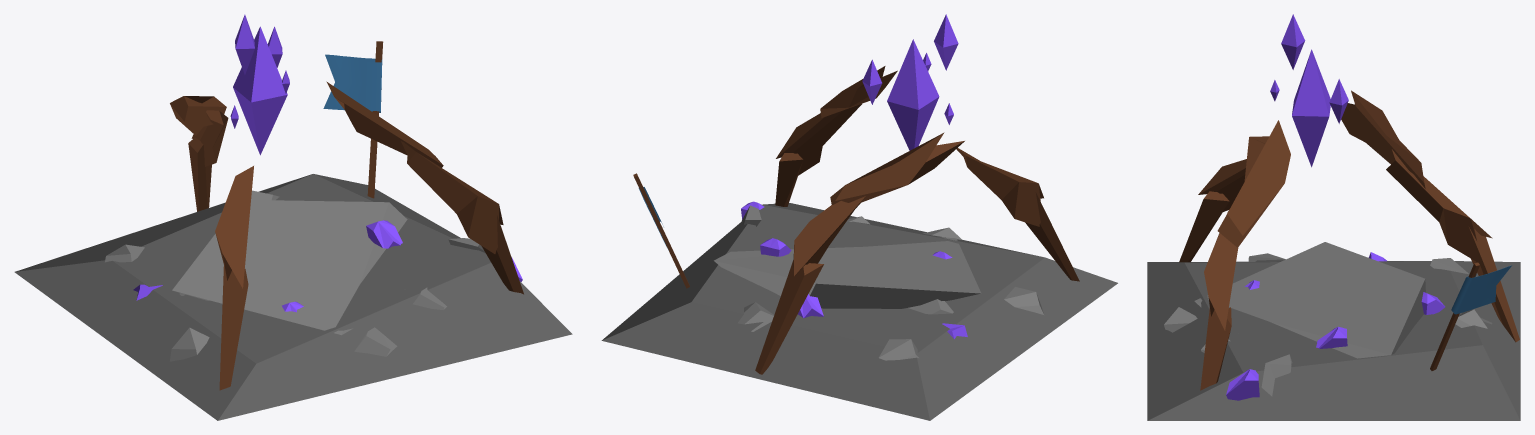
File: MagicTower-lvl1.fbx
The picture shows the model from 3 angles, left to right: view 1: azimuth 30°, elevation 25°; view 2: azimuth 150°, elevation 25°; view 3: azimuth 270°, elevation 25°; orthographic projection. The views are drawn at different scales.
Parts seen in each view (by area): view 1: Куб, Куб.001, Cone.007, Куб.006, Куб.009, Plane.009_feather_0, Куб.010, Куб.005, Куб.004, Куб.002, Куб.007, Куб.003 (+4 smaller); view 2: Куб, Куб.001, Cone.007, Куб.004, Куб.009, Куб.002, Куб.003, Куб.006, Куб.010, Куб.005, Куб.007, Куб.015 (+3 smaller); view 3: Куб, Куб.001, Куб.005, Cone.007, Куб.003, Куб.004, Куб.006, Куб.007, Куб.010, Plane.009_feather_0, Куб.002, Куб.009 (+8 smaller).
Part boxes in pixels (<box>): Куб: <box>14,174,572,420</box>; Куб.001: <box>172,200,407,335</box>; Cone.007: <box>230,14,289,155</box>; Куб.006: <box>401,141,503,253</box>; Куб.009: <box>215,166,253,288</box>; Plane.009_feather_0: <box>323,54,382,112</box>; Куб.010: <box>219,263,248,390</box>; Куб.005: <box>326,81,443,167</box>; Куб.004: <box>170,96,226,135</box>; Куб.002: <box>188,137,211,211</box>; Куб.007: <box>481,215,523,294</box>; Куб.003: <box>191,110,228,166</box>; Куб: <box>601,203,1117,420</box>; Куб.001: <box>714,237,981,308</box>; Cone.007: <box>862,14,958,150</box>; Куб.004: <box>830,132,964,204</box>; Куб.009: <box>956,148,1043,226</box>; Куб.002: <box>755,260,823,374</box>; Куб.003: <box>793,196,865,276</box>; Куб.006: <box>776,104,861,175</box>; Куб.010: <box>1025,192,1079,281</box>; Куб.005: <box>820,66,897,117</box>; Куб.007: <box>775,153,803,206</box>; Куб.015: <box>878,339,919,360</box>; Куб: <box>1147,261,1520,420</box>; Куб.001: <box>1194,242,1425,358</box>; Куб.005: <box>1217,120,1290,247</box>; Cone.007: <box>1270,14,1348,167</box>; Куб.003: <box>1386,149,1492,262</box>; Куб.004: <box>1341,90,1425,188</box>; Куб.006: <box>1204,209,1238,330</box>; Куб.007: <box>1200,307,1231,390</box>; Куб.010: <box>1179,191,1229,262</box>; Plane.009_feather_0: <box>1451,265,1511,314</box>; Куб.002: <box>1468,226,1519,342</box>; Куб.009: <box>1198,159,1246,211</box>.
Bounding box in the file's own units: 546 × 475 × 542.
